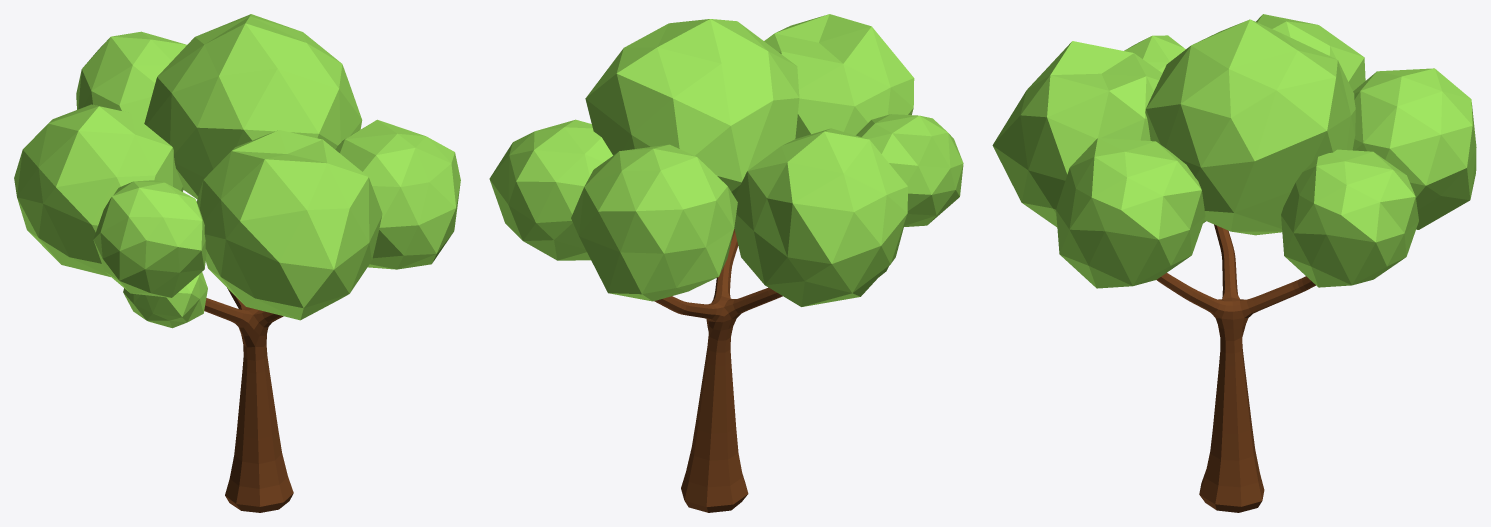
File: Laubbaum3.fbx
3 views of the same model, side by side, from view 1: azimuth 30°, elevation 25°; view 2: azimuth 150°, elevation 25°; view 3: azimuth 270°, elevation 25° (orthographic). The views are drawn at different scales.
Parts seen in each view (by area): view 1: Icosphere.001, Plane; view 2: Icosphere.001, Plane; view 3: Icosphere.001, Plane.
Boxes of the visible parts, x1,y1,x2,y2 form: Icosphere.001: (14, 14, 460, 328); Plane: (204, 288, 293, 512); Icosphere.001: (489, 14, 963, 306); Plane: (654, 229, 782, 512); Icosphere.001: (992, 14, 1476, 288); Plane: (1157, 224, 1315, 512).
Size of the model in its own units: 794 by 1038 by 944.
